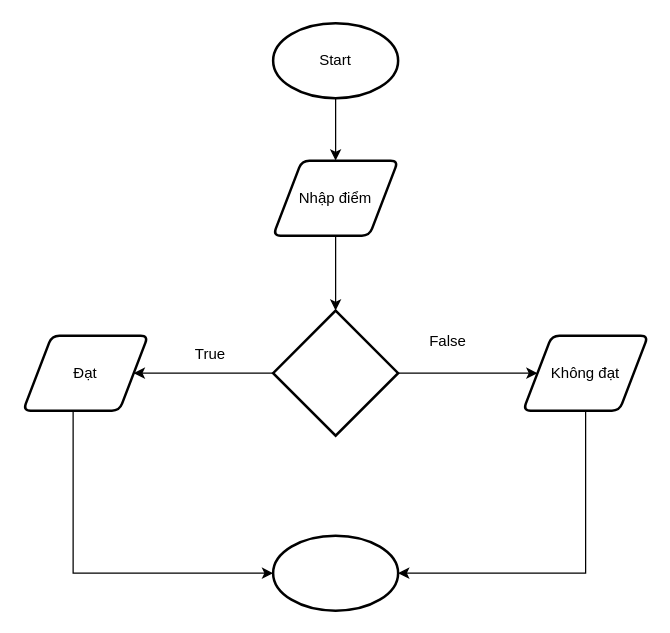
Some shapes in this 670 by 633 pixel diagram are drawn without their labels. Each missing label, with the centre of its shape:
"End" goes at point 335,572.
"If >= 5" goes at point 335,372.
